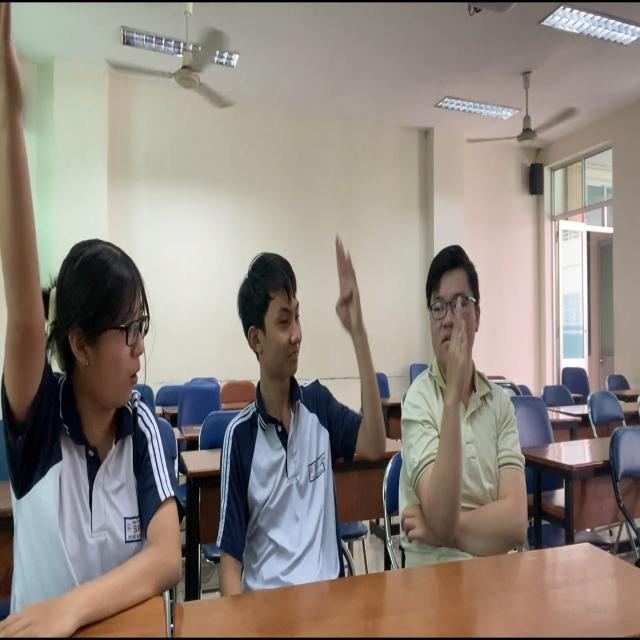raise_hand: (1, 4, 188, 640), (228, 227, 386, 626), (402, 210, 536, 576)
